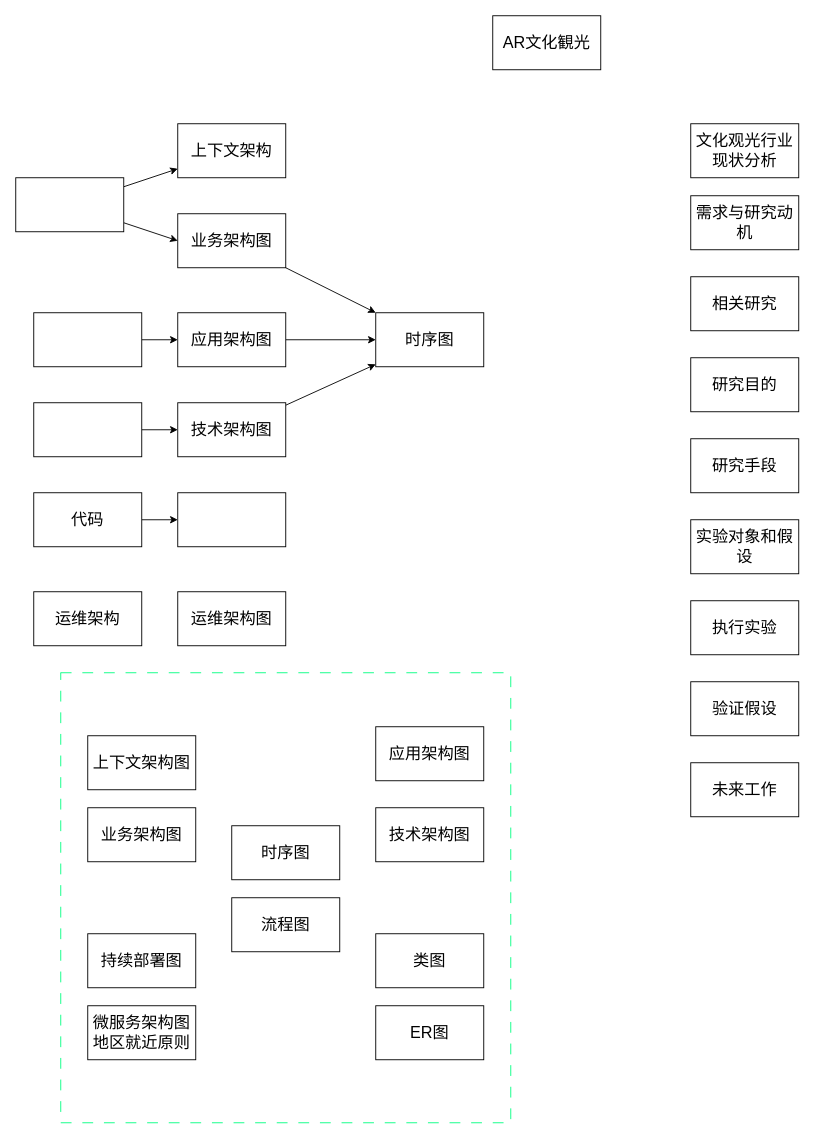
The diagram is 815 pixels wide and 1139 high, and some of its shapes have lost their labels. Here are the shapes that lost their labels. From the top down, the centre of each, then its label:
At [69,204]: "上下文".
At [87,339]: "容器".
At [87,429]: "组件".
At [231,519]: "类图 ER图 流程图".
